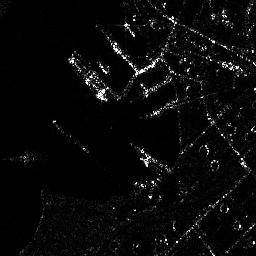ship: (66, 56, 109, 103)
